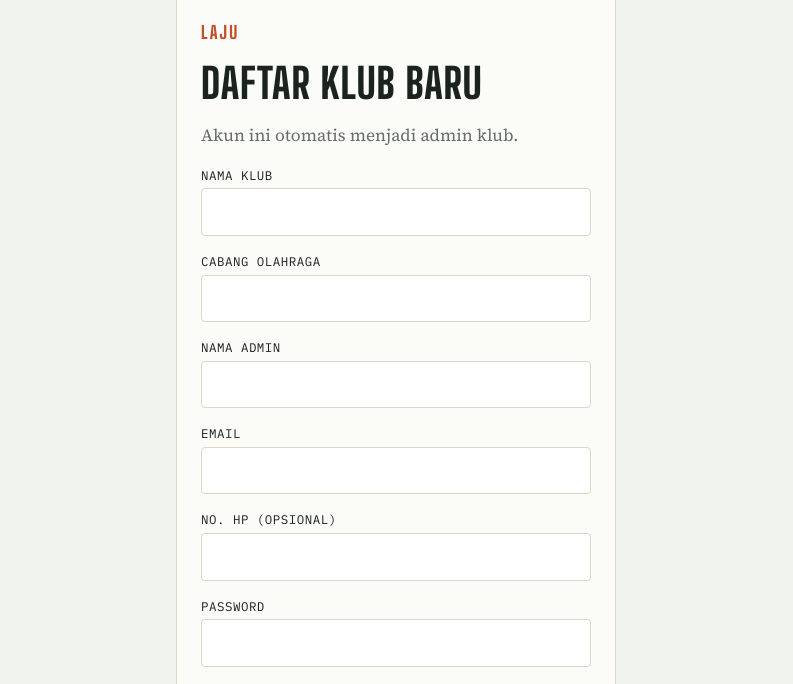
it: routing & auth › registers a new club and lands on the dashboard
Step 1. Type "Garuda Muda FC" into the field labelled "Nama klub" → (396, 212), box [201,188,591,236]
Step 2. Type "sepak bola" into the field labelled "Cabang olahraga" → (396, 298), box [201,274,591,322]
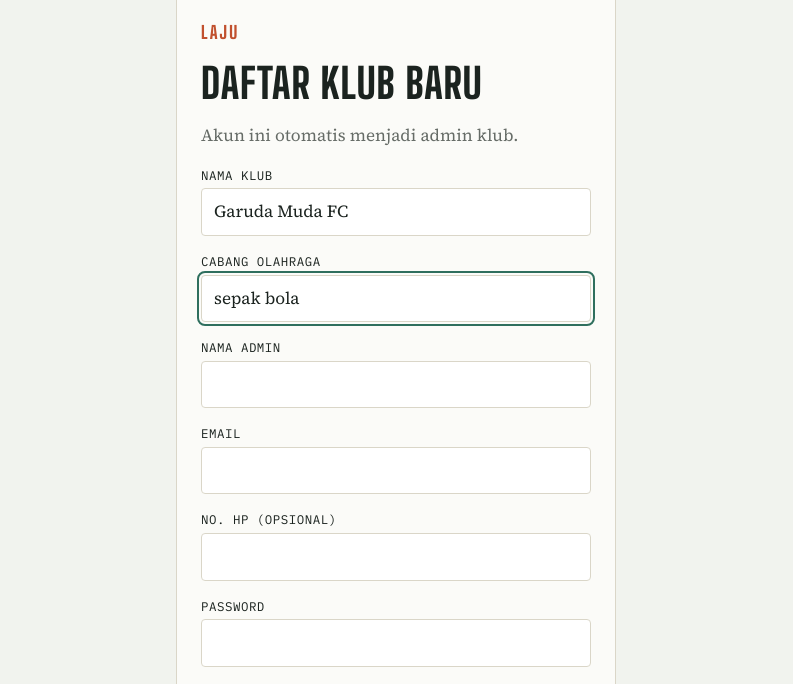
Step 3. Type "Budi Santoso" into the field labelled "Nama admin" → (396, 384), box [201,361,591,408]
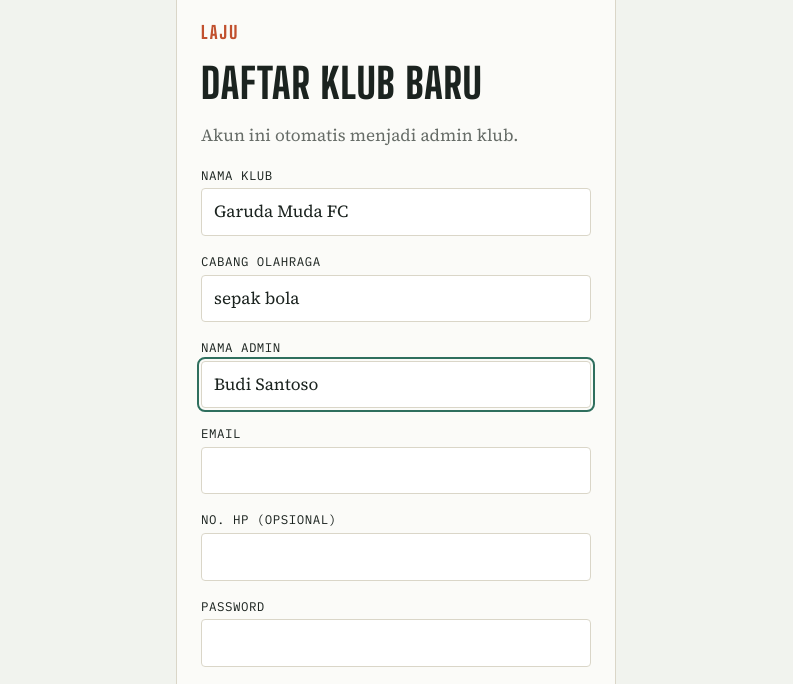
Step 4. Type "budi@example.com" into the field labelled "Email" → (396, 471), box [201,447,591,494]
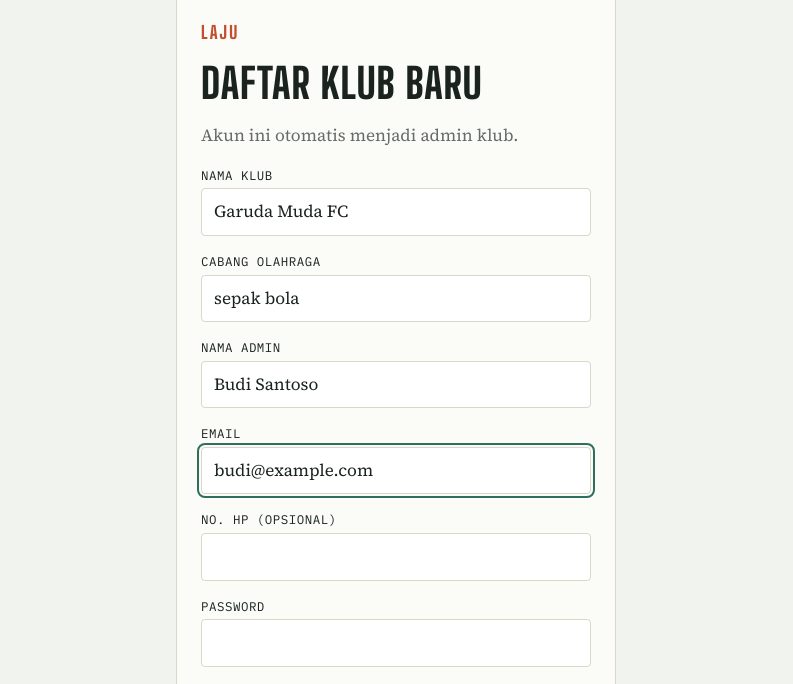
Step 5. Type "rahasia-banget-123" into the password field labelled "Password" → (396, 643), box [201,619,591,667]
(page scrolled)
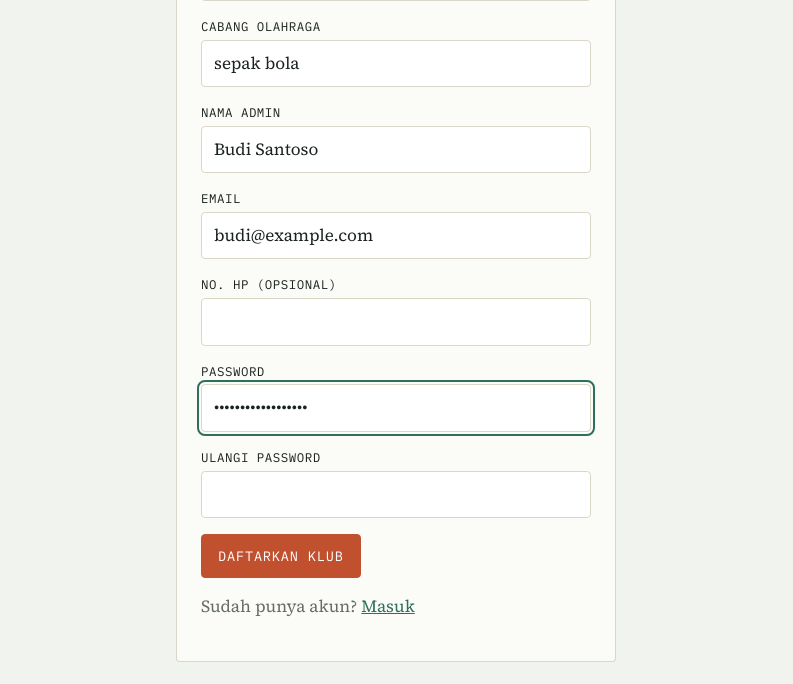
Step 6. Type "rahasia-banget-123" into the password field labelled "Ulangi password" → (396, 494), box [201,471,591,518]
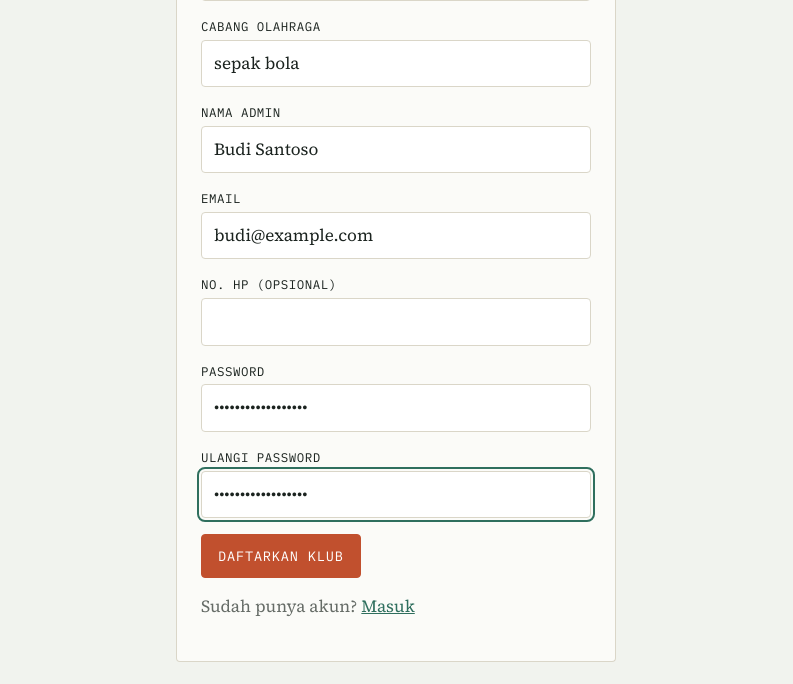
Step 7. Click the button "Daftarkan klub" → (281, 556), box [201,534,361,578]
(page scrolled)
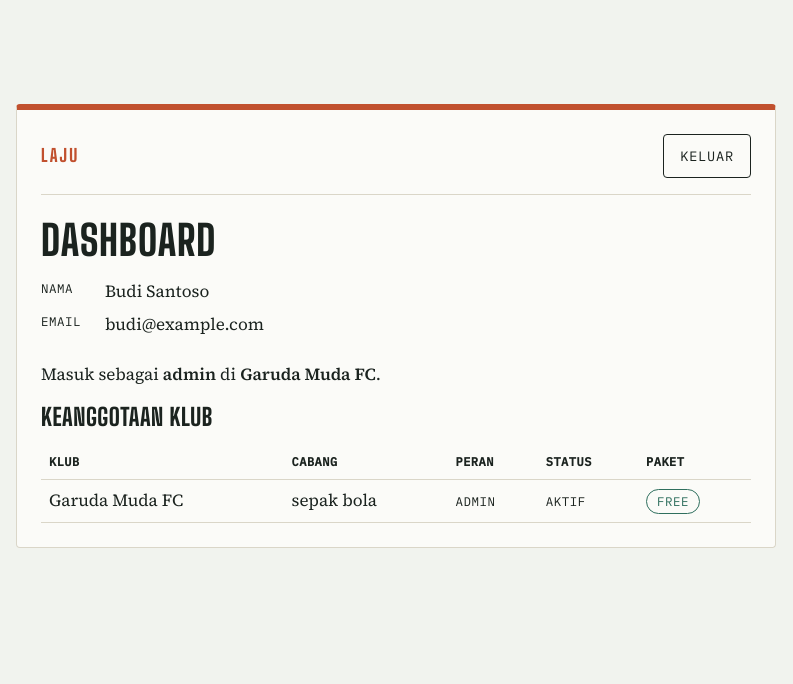
Result: the heading "Dashboard" is shown at [41,215,216,265]
Result: the text "Garuda Muda FC" is shown at [240,362,376,386]
